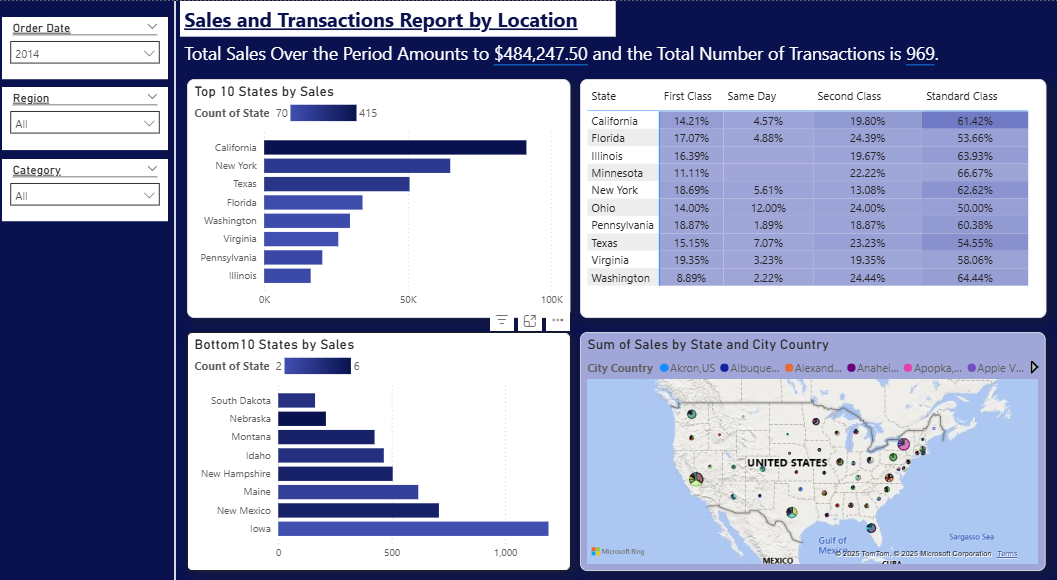

Layout of this report page (visuals, bound fields, positions):
{"tool":"powerbi","page":{"name":"Location Report","canvas":[1280,700],"ordinal":1},"visuals":[{"type":"shape","box":[194,0,38.6,700],"z":0},{"type":"textbox","box":[219.7,0,525,43.4],"z":1000},{"type":"textbox","box":[219.8,43.2,1060.5,40.7],"z":2000},{"type":"slicer","fields":{"Values":["Sheet1.Order Date.Variation.Date Hierarchy.Year"]},"box":[4.8,19.3,200,74.7],"z":3000},{"type":"slicer","fields":{"Values":["Sheet1.Region"]},"box":[4.8,103.6,200,75.9],"z":4000},{"type":"slicer","fields":{"Values":["Sheet1.Category"]},"box":[4.8,190.4,200,74.7],"z":5000},{"type":"barChart","title":"Top 10 States by Sales","fields":{"Category":["Sheet1.State"],"Y":["Sum(Sheet1.Sales)"]},"box":[227.5,94.2,462.3,288.4],"z":6000},{"type":"barChart","title":"Bottom10 States by Sales","fields":{"Category":["Sheet1.State"],"Y":["Sum(Sheet1.Sales)"]},"box":[227.5,398.6,462.3,288.4],"z":7000},{"type":"pivotTable","title":"Percentage of Transaction Shipments of the Top 10 States","fields":{"Rows":["Sheet1.State"],"Columns":["Sheet1.Ship Mode"],"Values":["Min(Sheet1.Order ID)"]},"box":[701.2,93.8,561.7,287.7],"z":8000},{"type":"map","fields":{"Size":["Sum(Sheet1.Sales)"],"Category":["Sheet1.State"],"Series":["Sheet1.City Country"]},"box":[701.2,398.8,561.4,288],"z":9000}]}

Visuals, with their boxes in screenshot pixels (x1, y1, x2, y2), scaled from the page's 1280x700 canvas onto the 1057x580 screenshot:
shape: x1=160, y1=0, x2=192, y2=579
textbox: x1=181, y1=0, x2=615, y2=36
textbox: x1=182, y1=36, x2=1056, y2=70
slicer - Sheet1.Order Date.Variation.Date Hierarchy.Year: x1=4, y1=16, x2=169, y2=78
slicer - Sheet1.Region: x1=4, y1=86, x2=169, y2=149
slicer - Sheet1.Category: x1=4, y1=158, x2=169, y2=220
"Top 10 States by Sales" barChart: x1=188, y1=78, x2=570, y2=317
"Bottom10 States by Sales" barChart: x1=188, y1=330, x2=570, y2=569
"Percentage of Transaction Shipments of the Top 10 States" pivotTable: x1=579, y1=78, x2=1043, y2=316
map - Sum(Sheet1.Sales) x Sheet1.State: x1=579, y1=330, x2=1043, y2=569
